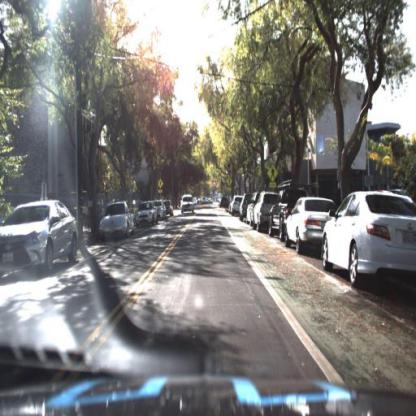car: (322, 187, 416, 284), (1, 199, 80, 282), (288, 194, 339, 243), (99, 201, 142, 246), (180, 192, 195, 220), (156, 198, 169, 224), (181, 193, 197, 214)
